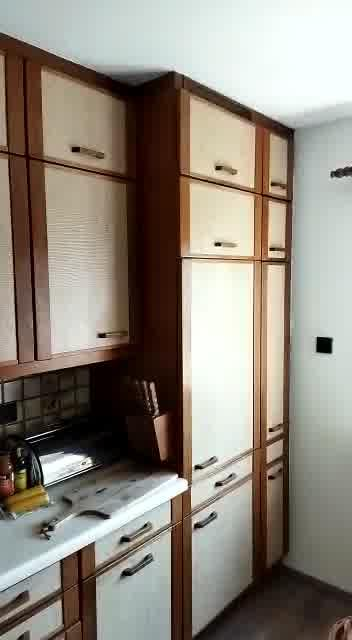cabinet_door: (34, 172, 135, 360), (191, 261, 258, 464), (29, 66, 131, 173), (89, 559, 183, 640), (182, 96, 258, 184), (194, 495, 254, 591), (180, 183, 252, 257), (261, 271, 287, 439), (95, 509, 182, 559), (262, 457, 290, 569), (191, 462, 250, 503), (263, 135, 289, 195), (262, 201, 288, 261)
handle: (68, 137, 108, 166), (118, 551, 155, 582), (120, 519, 155, 548), (93, 321, 130, 346), (207, 156, 241, 178), (193, 508, 217, 535), (190, 450, 217, 473), (210, 233, 239, 252), (213, 469, 236, 490), (264, 415, 285, 436), (265, 239, 288, 258), (265, 465, 288, 484), (267, 177, 287, 192)
